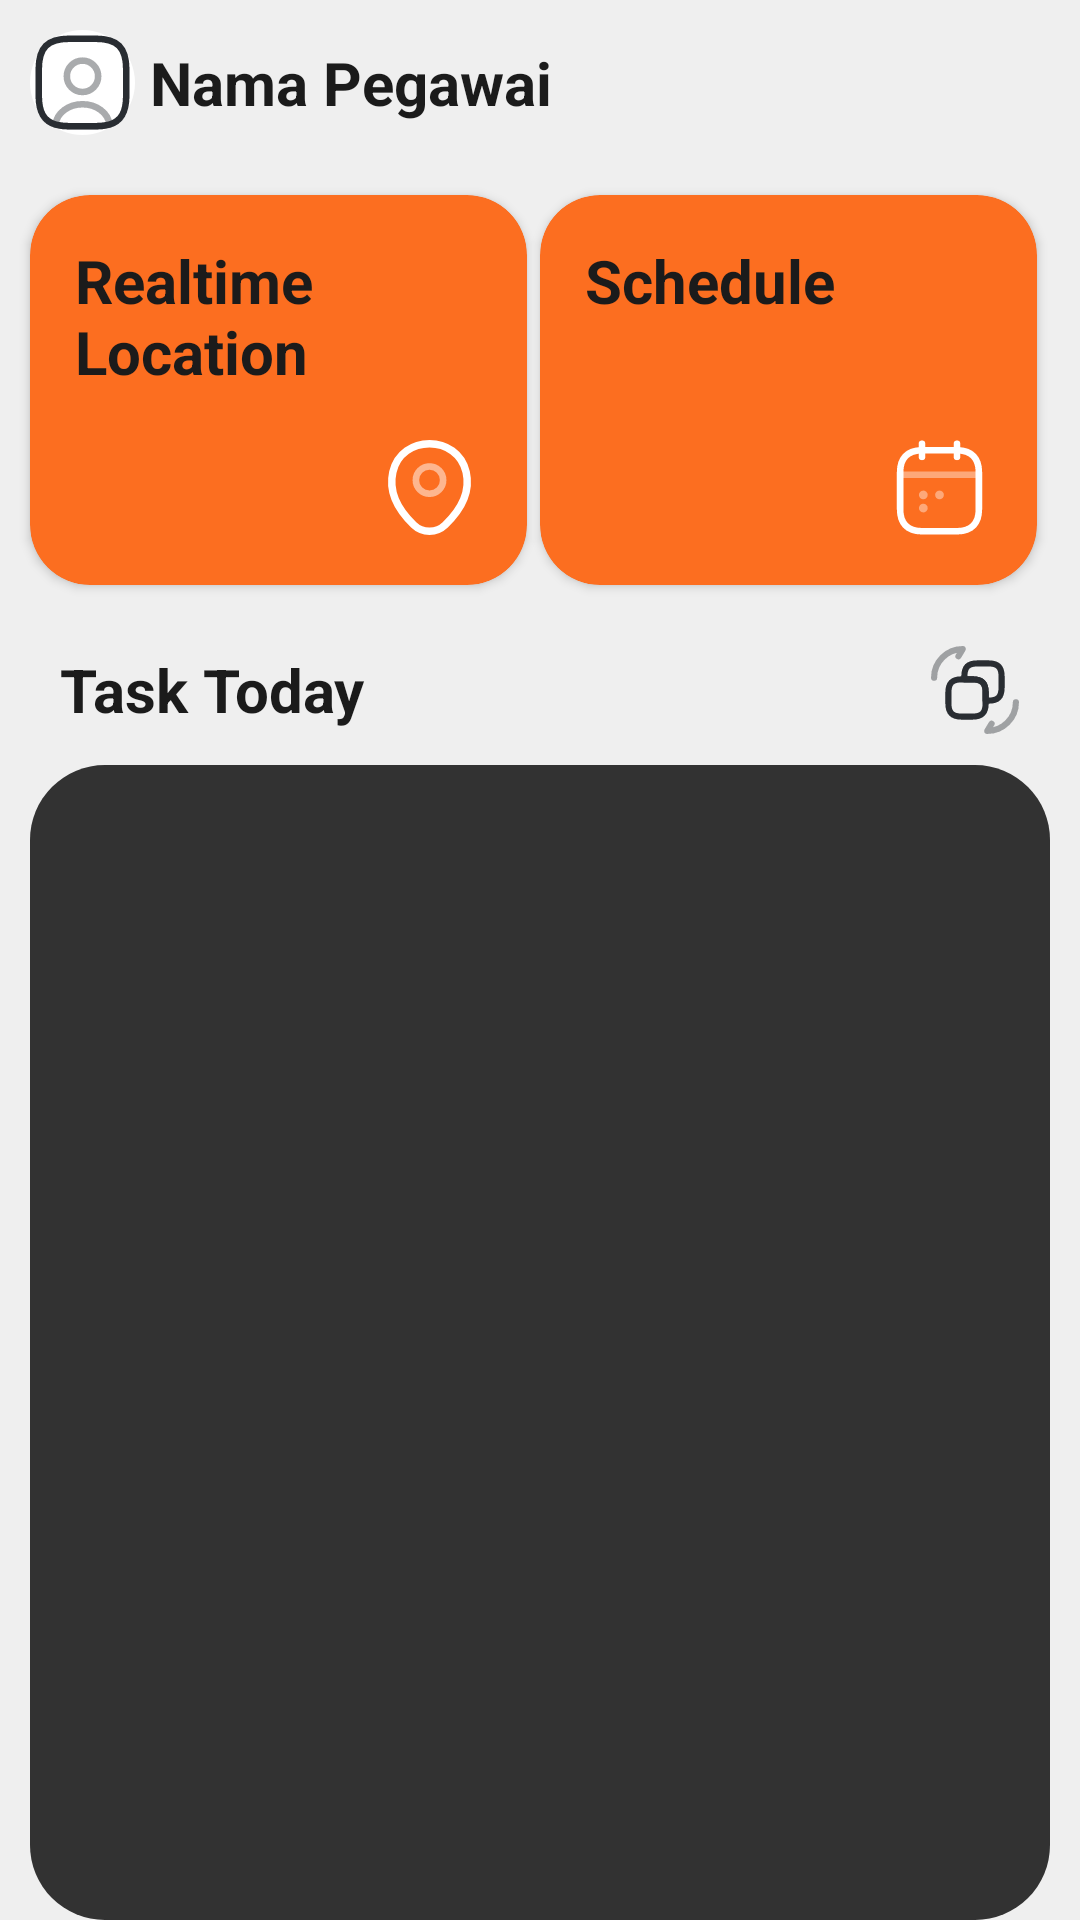

Named icons in this screenshot (1080px x 1920px) and their centers, (x,y):
calendar: (939,487)
username: (82,82)
